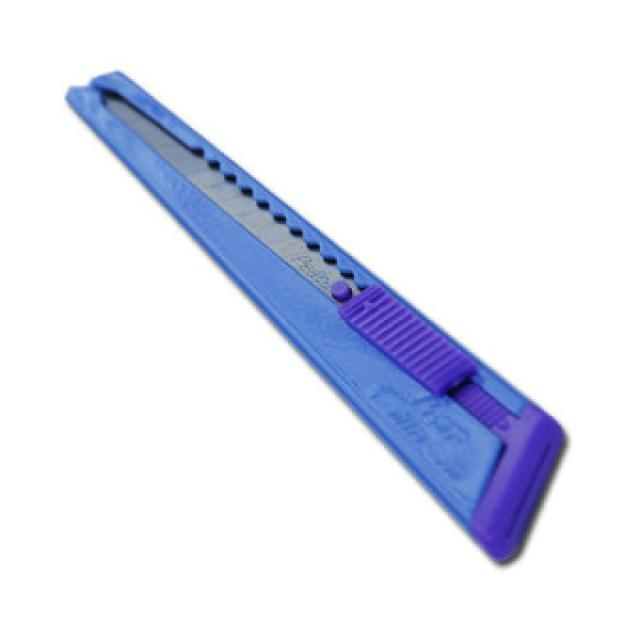cutter: (51, 62, 579, 574)
